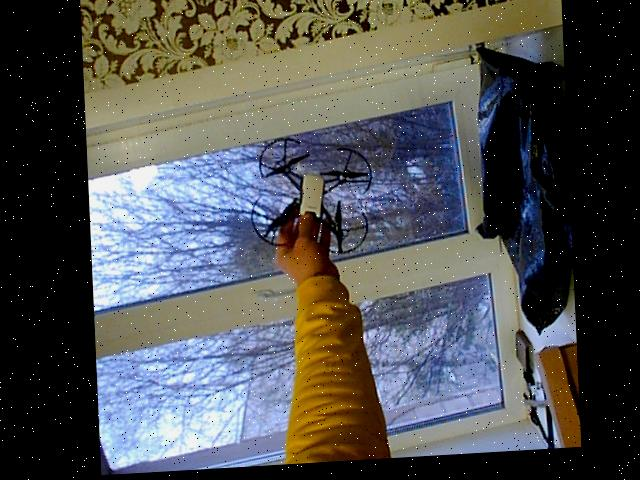drone: (234, 135, 377, 267)
